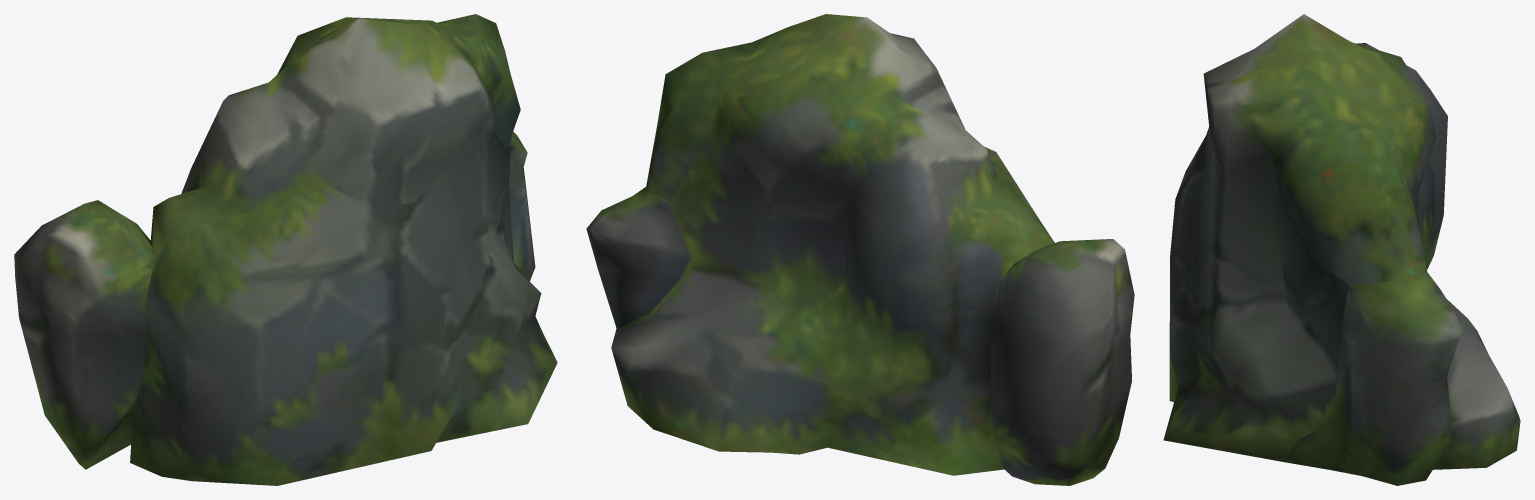
The model's file is Yegesl_st01.FBX.
3 renders of one model, left to right at view 1: azimuth 30°, elevation 25°; view 2: azimuth 150°, elevation 25°; view 3: azimuth 270°, elevation 25°, orthographic. The views are drawn at different scales.
Parts seen in each view (by area): view 1: Yegesl_st01; view 2: Yegesl_st01; view 3: Yegesl_st01.
Part boxes in pixels (x1,y1,x2,y2): Yegesl_st01: [14, 14, 557, 485]; Yegesl_st01: [586, 14, 1134, 485]; Yegesl_st01: [1163, 14, 1520, 485].
Bounding box in the file's own units: 62.97 × 37.79 × 47.14.
